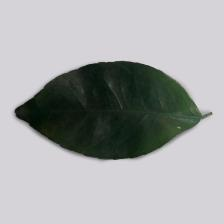healthy: (25, 60, 188, 145)
